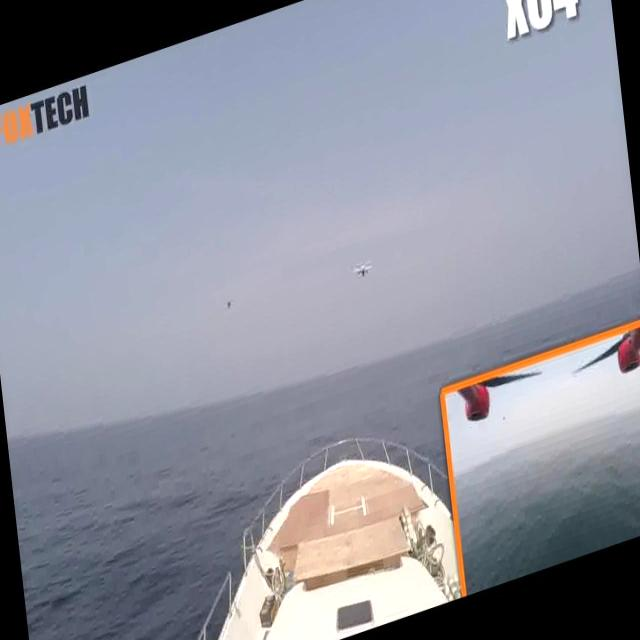drone: (345, 244, 377, 288)
